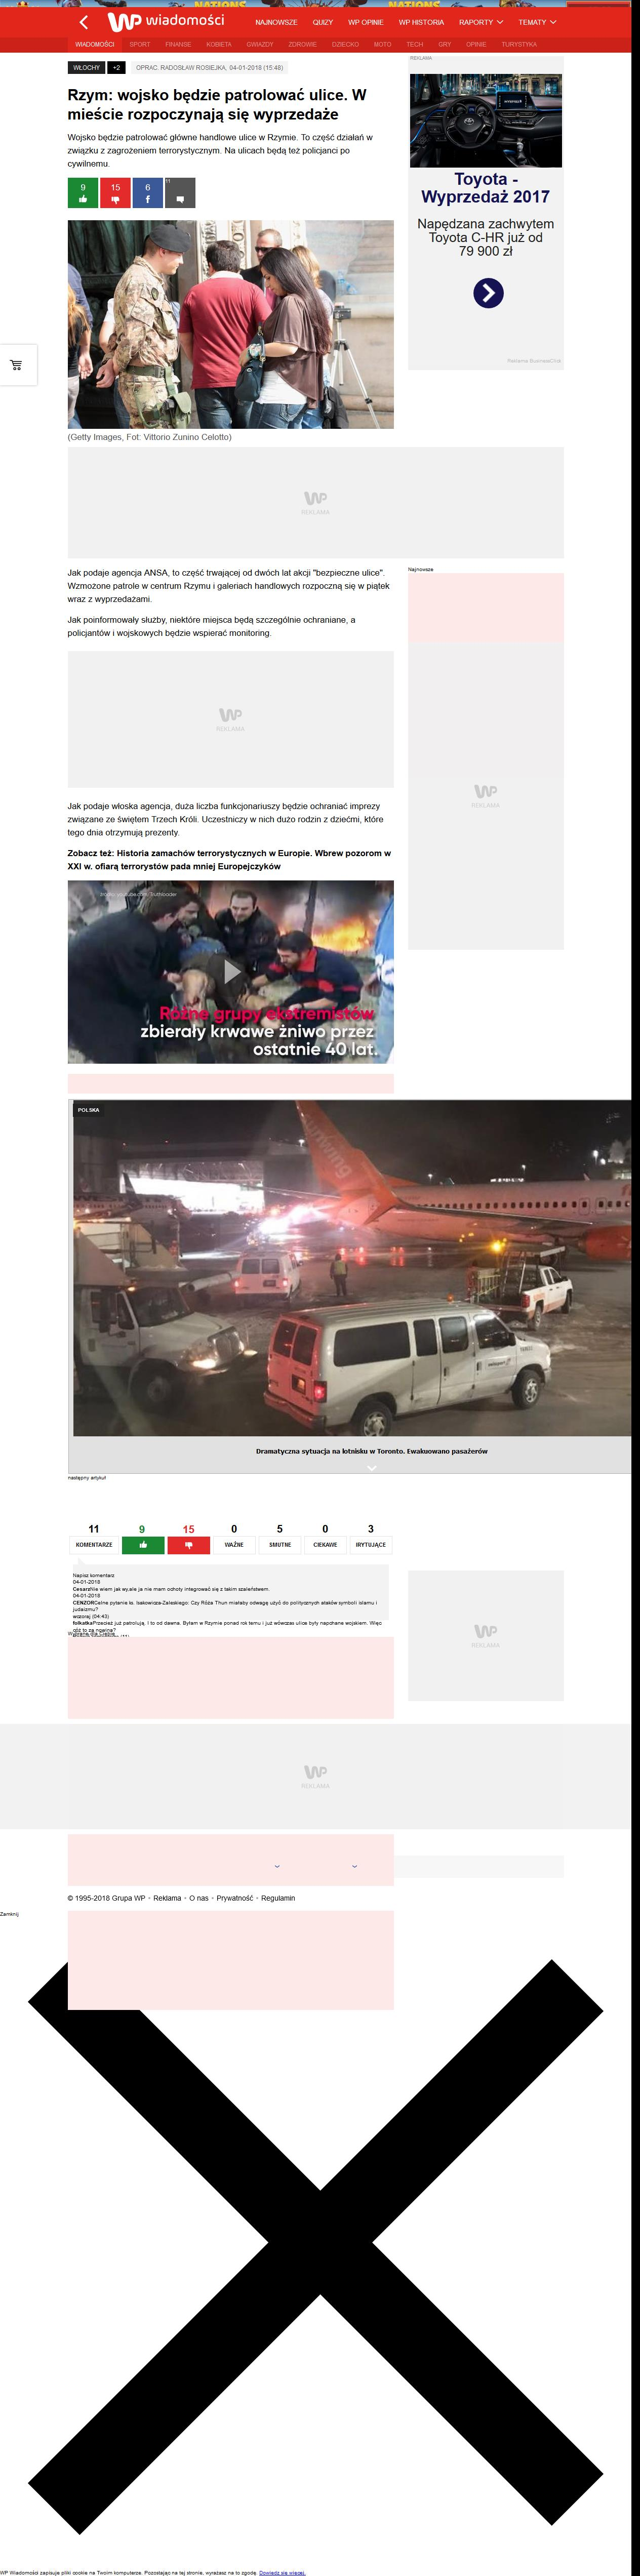title: (67, 87, 368, 123)
